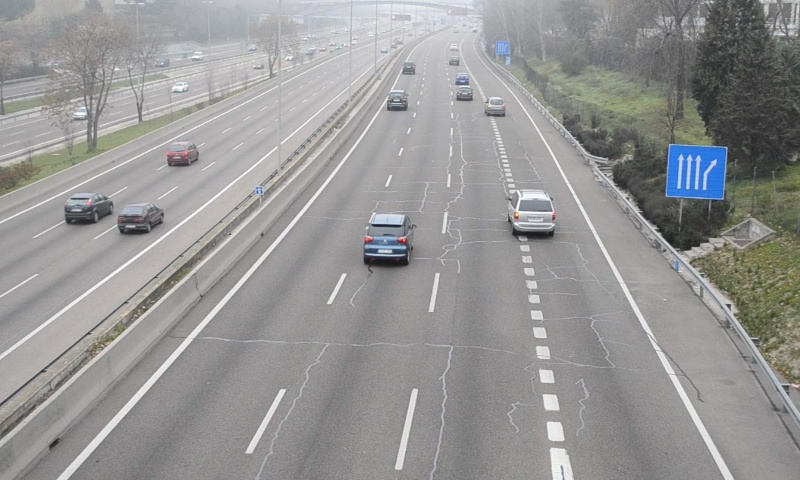car: (363, 213, 414, 262), (508, 190, 556, 232), (386, 89, 408, 111), (484, 95, 505, 117), (456, 84, 474, 101)
